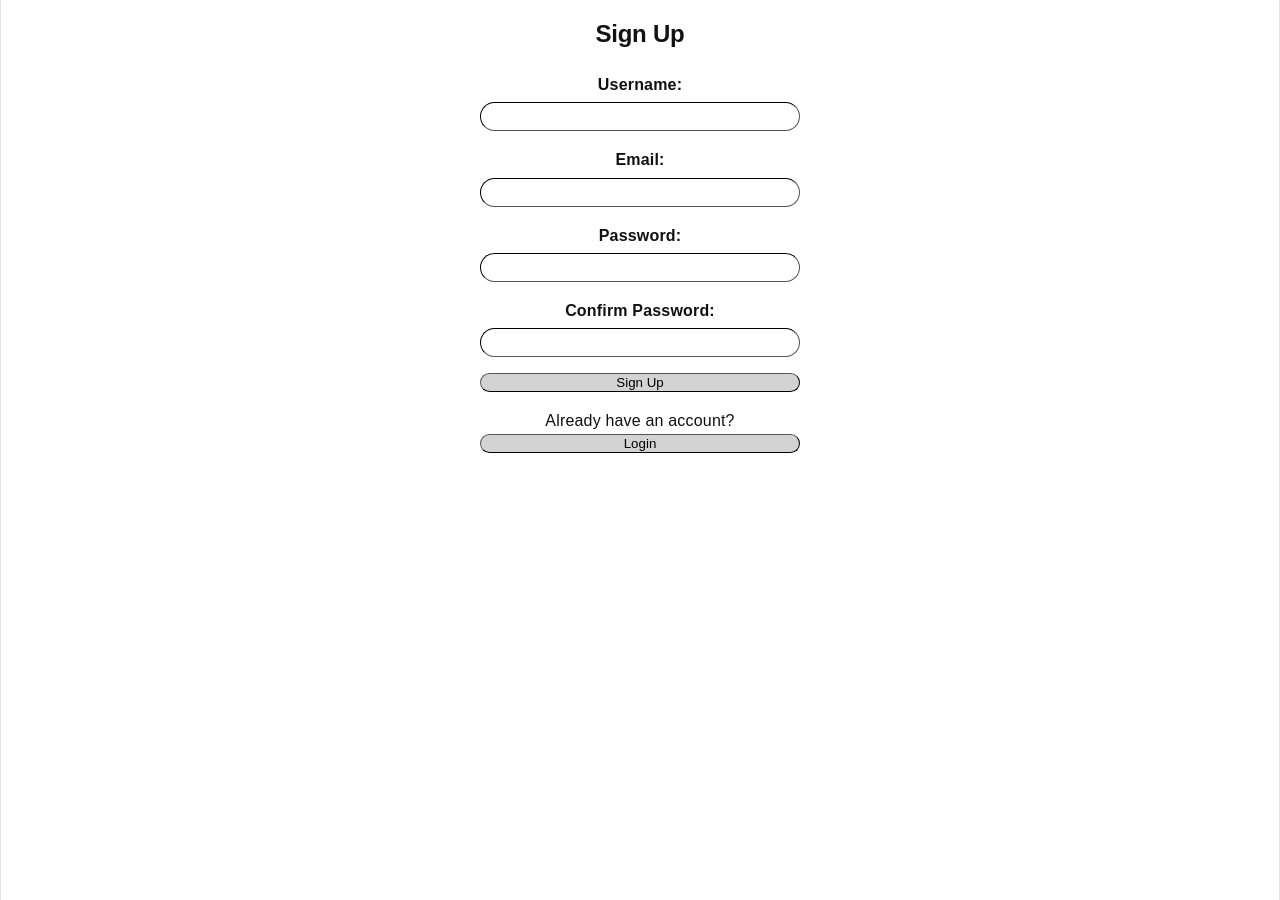
shows error when username is too short
The width and height of the screenshot is (1280, 900).
Type "ab" into the field labelled "Username:" at (640, 117), box [480,102,800,131]
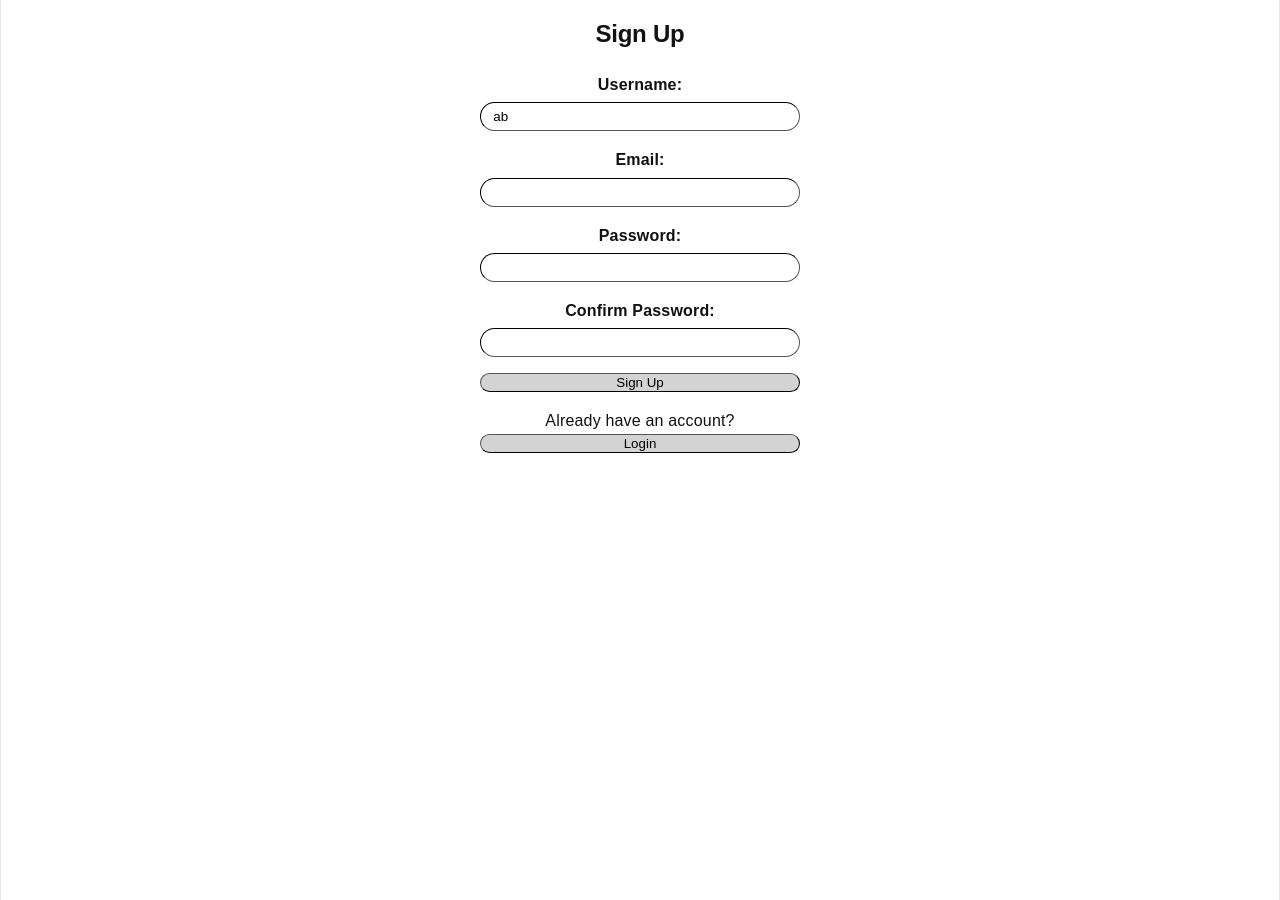
Type "test@test.com" into the field labelled "Email:" at (640, 192), box [480,178,800,206]
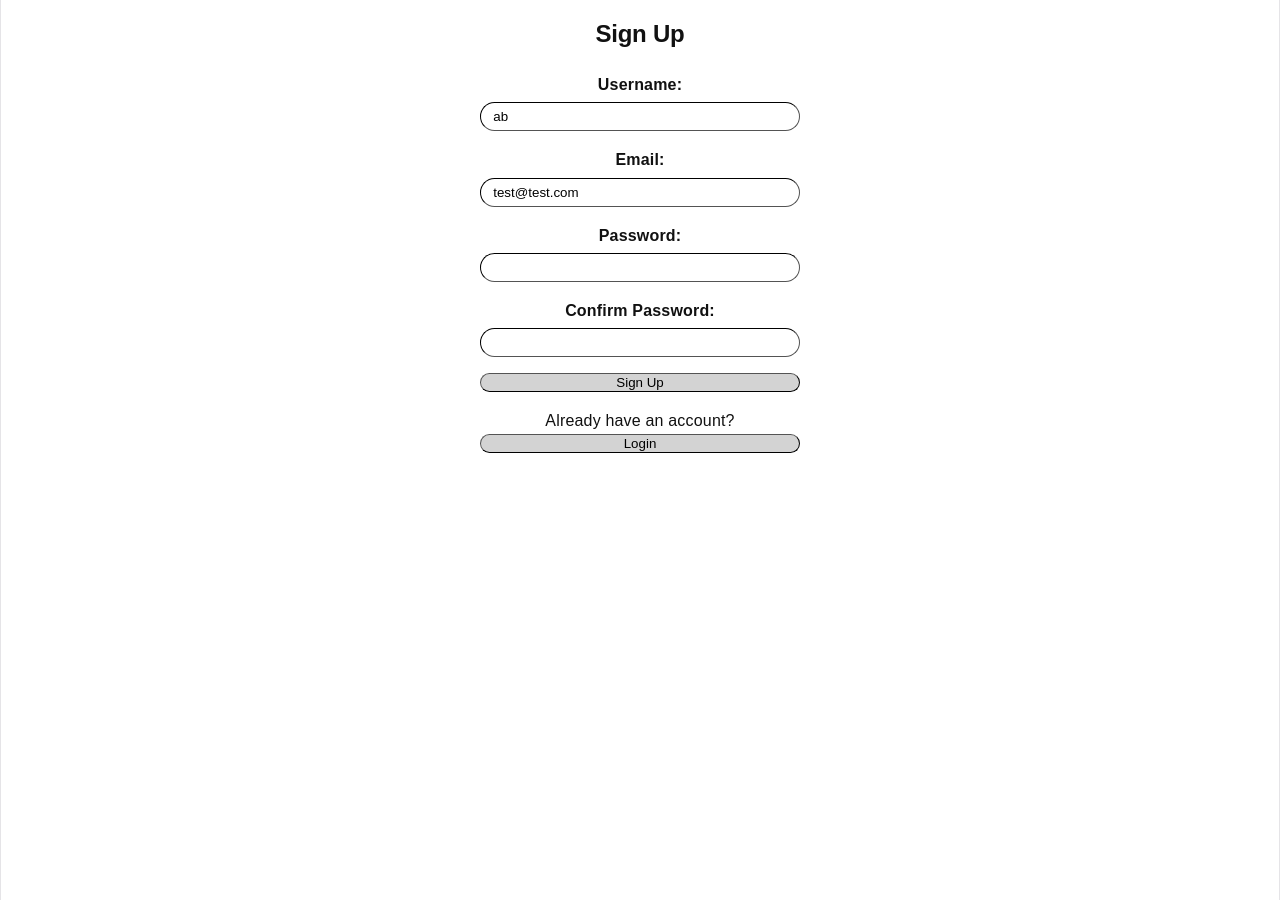
Type "password123" into the password field labelled "Password:" at (640, 267), box [480,253,800,282]
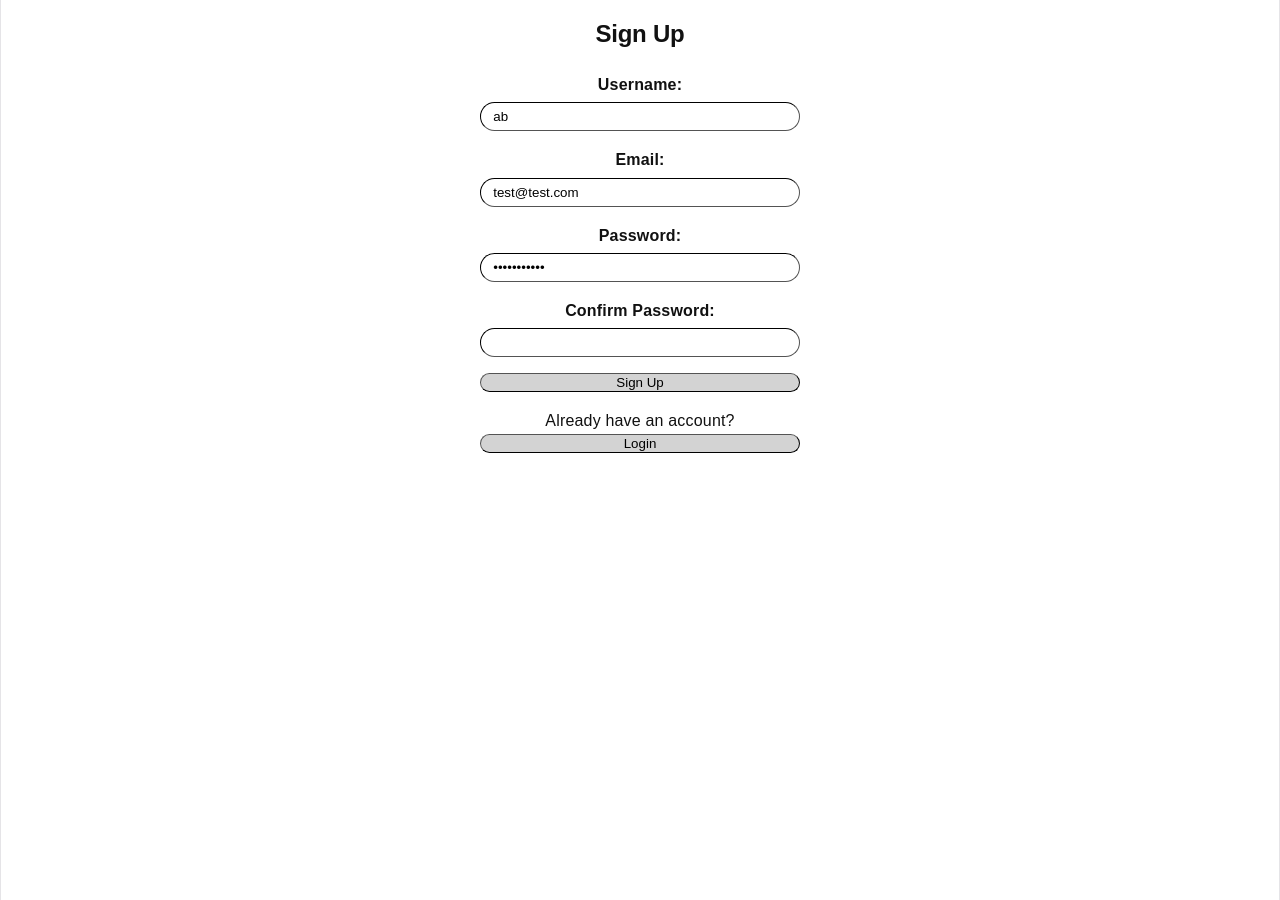
Type "password123" into the password field labelled "Confirm Password:" at (640, 342), box [480,328,800,357]
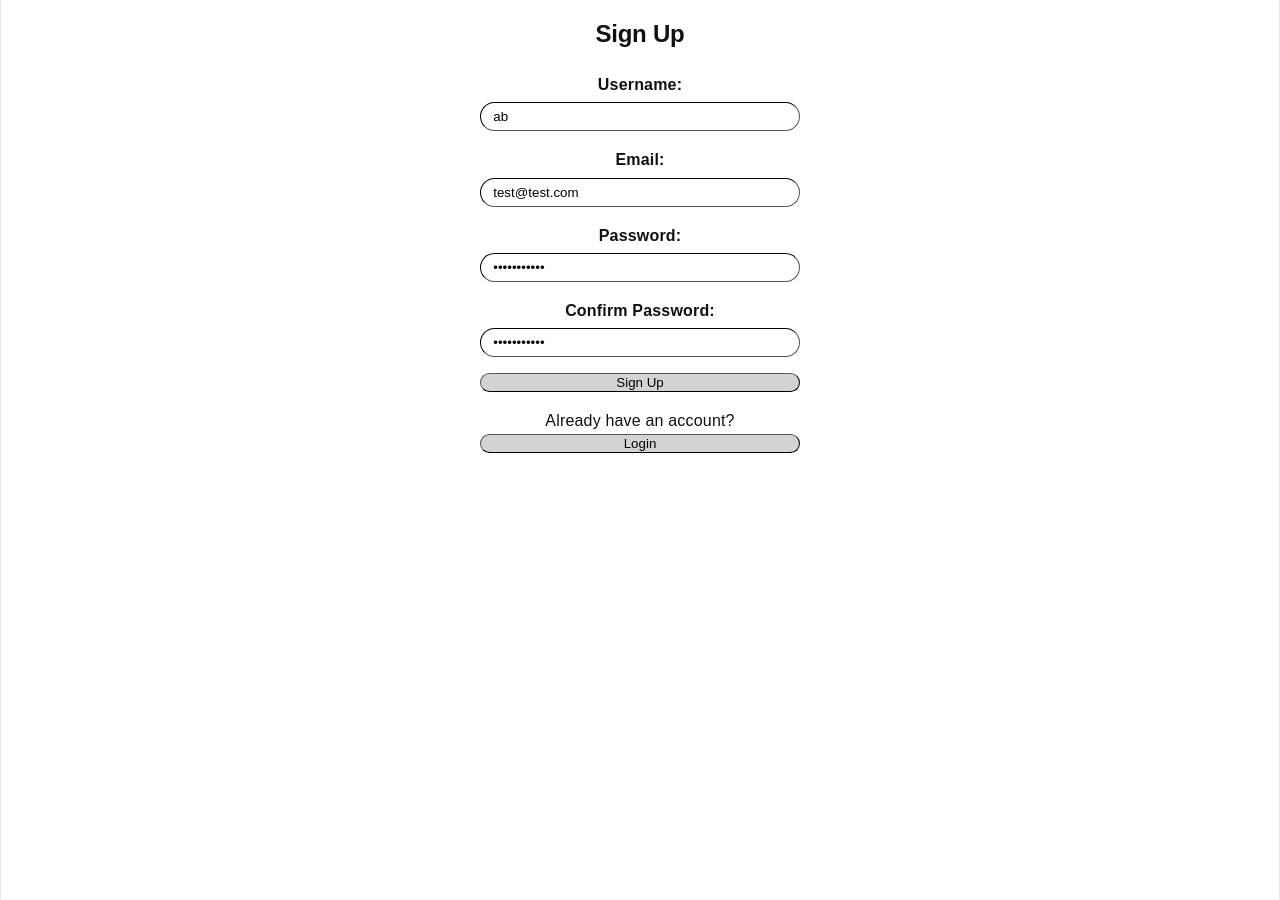
Click the button "Sign Up" at (640, 382), box [480,373,800,392]
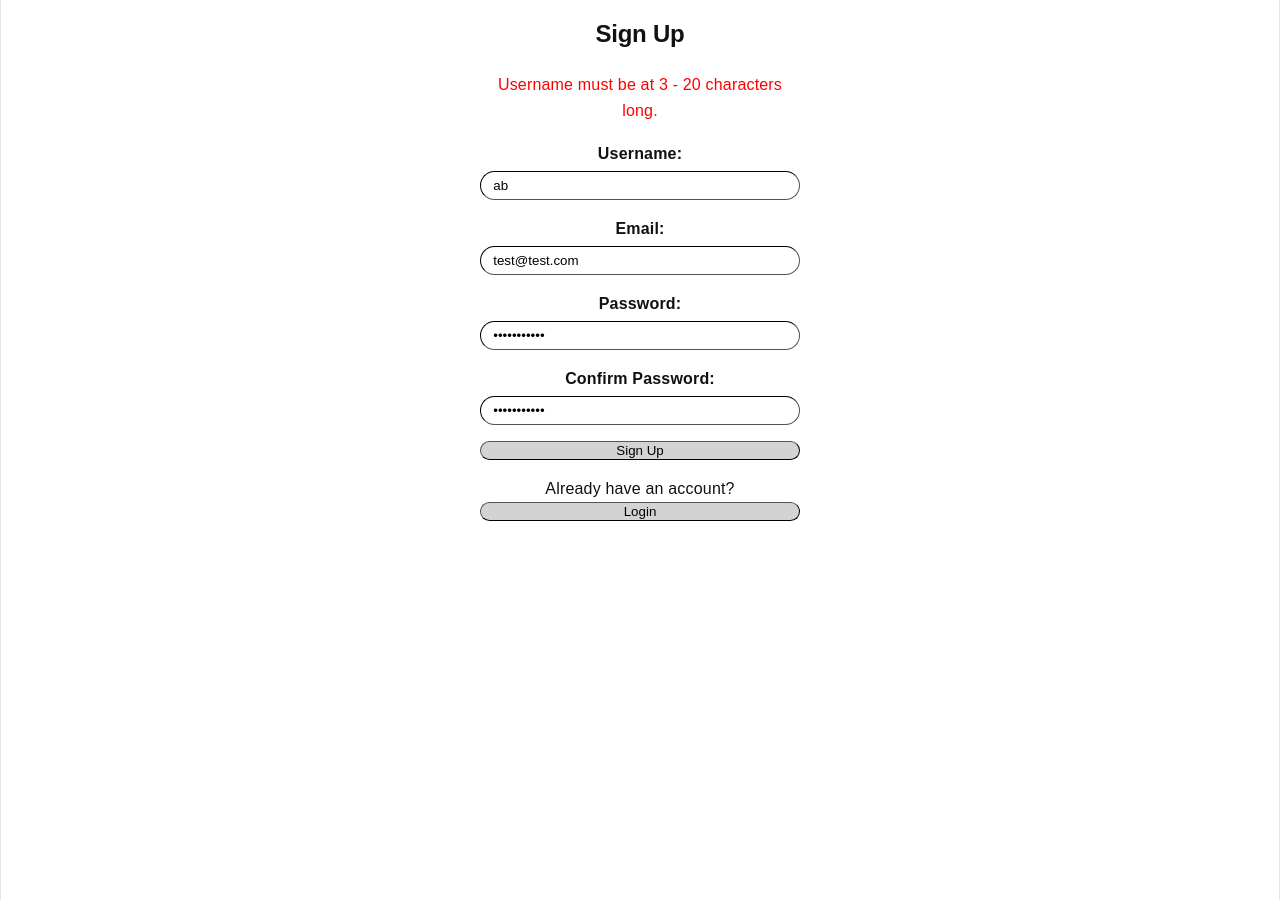
Expected: the text "Username must be at 3 - 20 characters long." is shown, [480,72,800,124]
